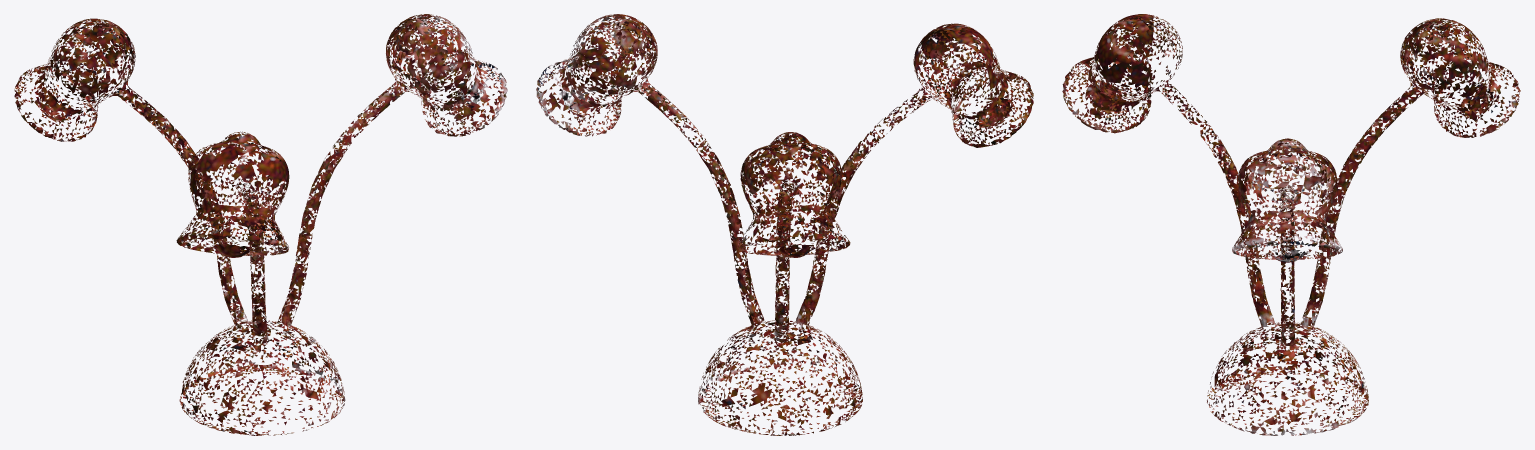
File: lamp_final600.obj
The picture shows the model from 3 angles, left to right: view 1: azimuth 30°, elevation 25°; view 2: azimuth 150°, elevation 25°; view 3: azimuth 270°, elevation 25°; orthographic projection.
Size of the model in its own units: 1.59 by 1.32 by 1.62.
